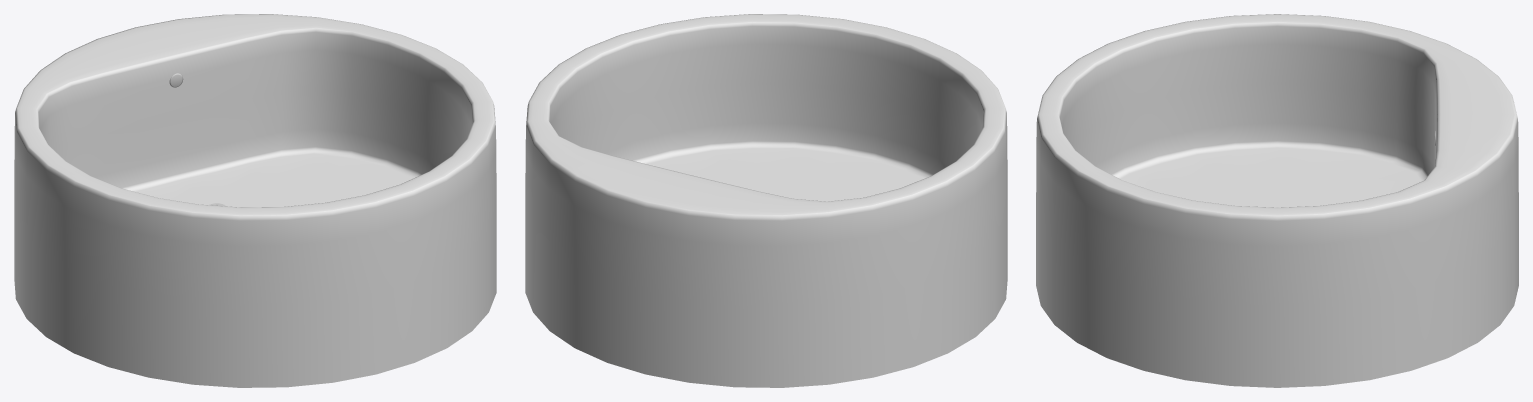
The model's file is BathTub07.fbx.
3 views of the same model, side by side, from view 1: azimuth 30°, elevation 25°; view 2: azimuth 150°, elevation 25°; view 3: azimuth 270°, elevation 25° (orthographic).
Parts seen in each view (by area): view 1: Bathtub07; view 2: Bathtub07; view 3: Bathtub07.
Boxes of the visible parts, <box> form: Bathtub07: <box>14,14,496,387</box>; Bathtub07: <box>525,14,1007,387</box>; Bathtub07: <box>1036,14,1518,387</box>.
Size of the model in its own units: 126 by 49.49 by 126.
